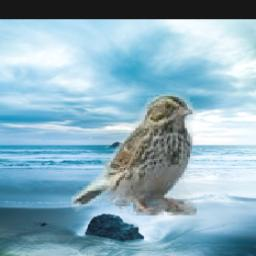Sparrow: (71, 92, 197, 216)
